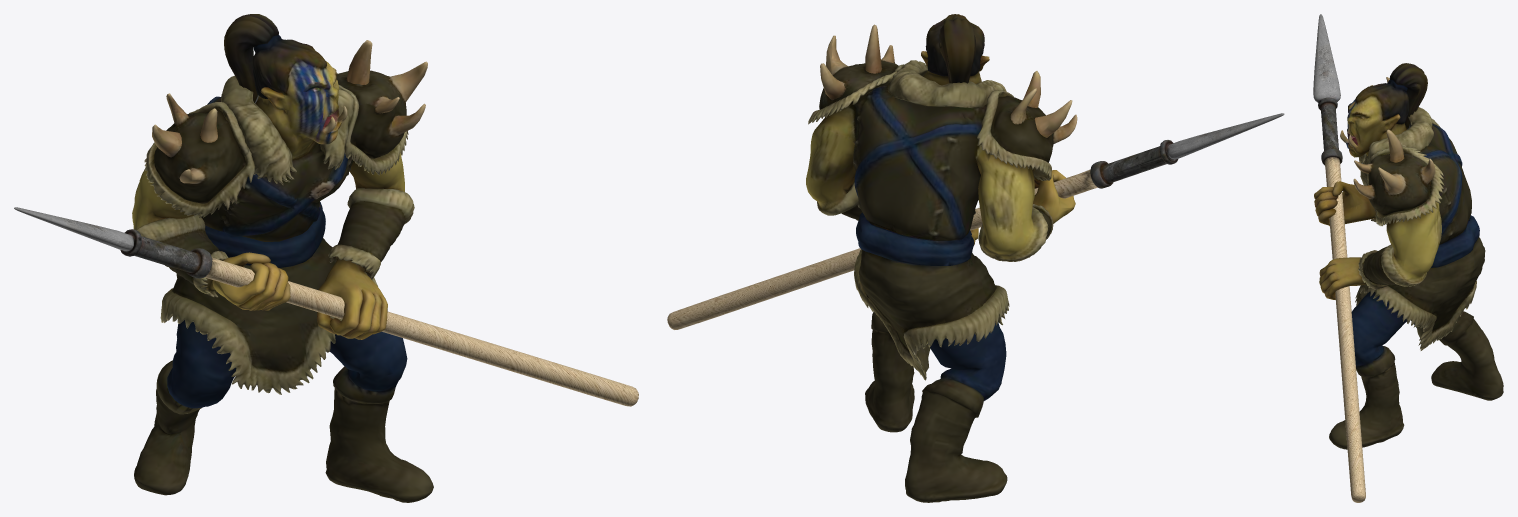
Rendered from MZ4250 - Orc Male Warrior_blue_spear.glb.
3 views of the same model, side by side, from view 1: azimuth 30°, elevation 25°; view 2: azimuth 150°, elevation 25°; view 3: azimuth 270°, elevation 25° (orthographic). The views are drawn at different scales.
Parts seen in each view (by area): view 1: Spear.001; view 2: Spear.001; view 3: Spear.001.
Boxes of the visible parts, x1,y1,x2,y2 form: Spear.001: (14,14,638,502); Spear.001: (667,14,1284,502); Spear.001: (1313,14,1503,502).
Bounding box in the file's own units: 55.5 × 39.09 × 19.79.
Materials: 2 (2 with a texture image).
